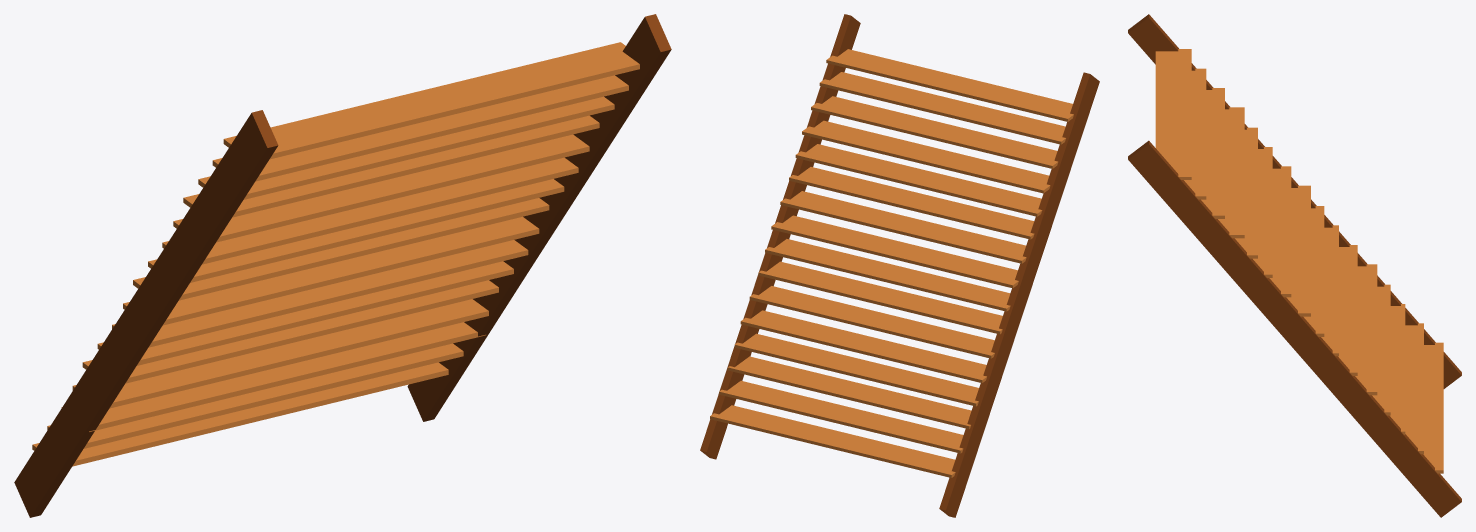
The model's file is spratno stepeniste.FBX.
The picture shows the model from 3 angles, left to right: view 1: azimuth 30°, elevation 25°; view 2: azimuth 150°, elevation 25°; view 3: azimuth 270°, elevation 25°; orthographic projection. The views are drawn at different scales.
Parts seen in each view (by area): view 1: Box577, Box576; view 2: Box577, Box576; view 3: Box577, Box576.
Part boxes in pixels (x1,y1,x2,y2): Box577: [32, 42, 639, 466]; Box576: [14, 14, 671, 517]; Box577: [710, 49, 1073, 477]; Box576: [700, 14, 1099, 517]; Box577: [1155, 49, 1443, 473]; Box576: [1128, 14, 1461, 517].
Bounding box in the file's own units: 170 × 228 × 184.
